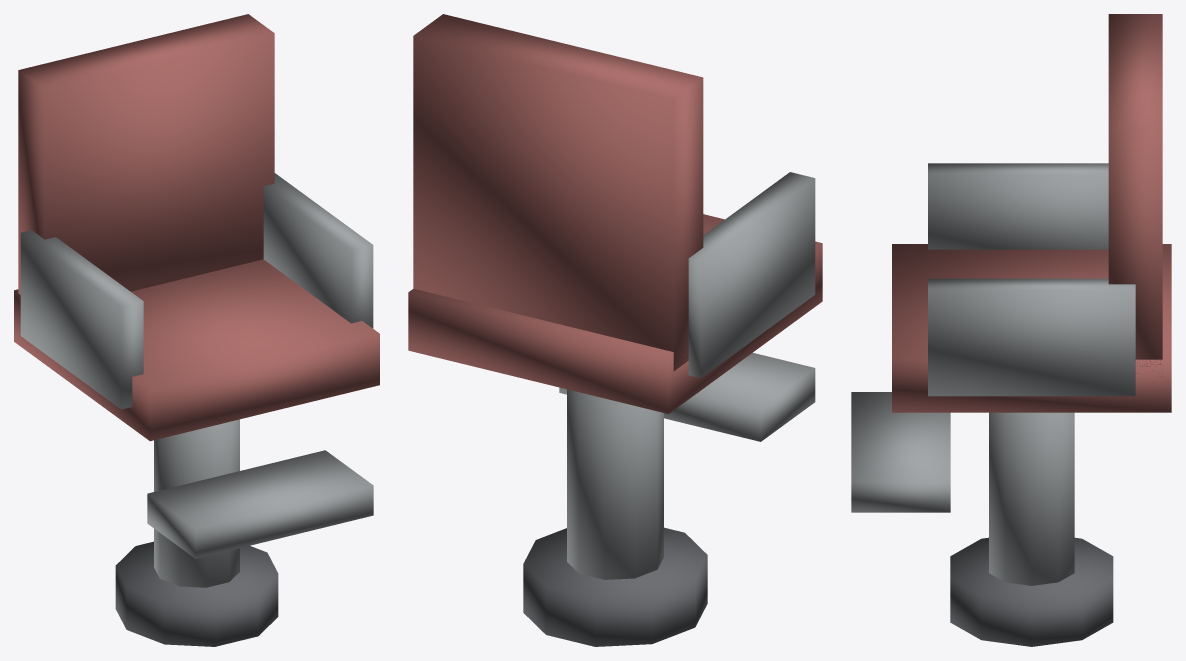
The model's file is barber_chair__compact.glb.
3 renders of one model, left to right at view 1: azimuth 30°, elevation 25°; view 2: azimuth 150°, elevation 25°; view 3: azimuth 270°, elevation 25°, orthographic. The views are drawn at different scales.
Parts seen in each view (by area): view 1: world; view 2: world; view 3: world.
Part boxes in pixels (x1,y1,x2,y2): world: (14,14,379,646); world: (408,14,822,646); world: (851,14,1171,646).
Bounding box in the file's own units: 0.5712 × 1.13 × 0.6106.
